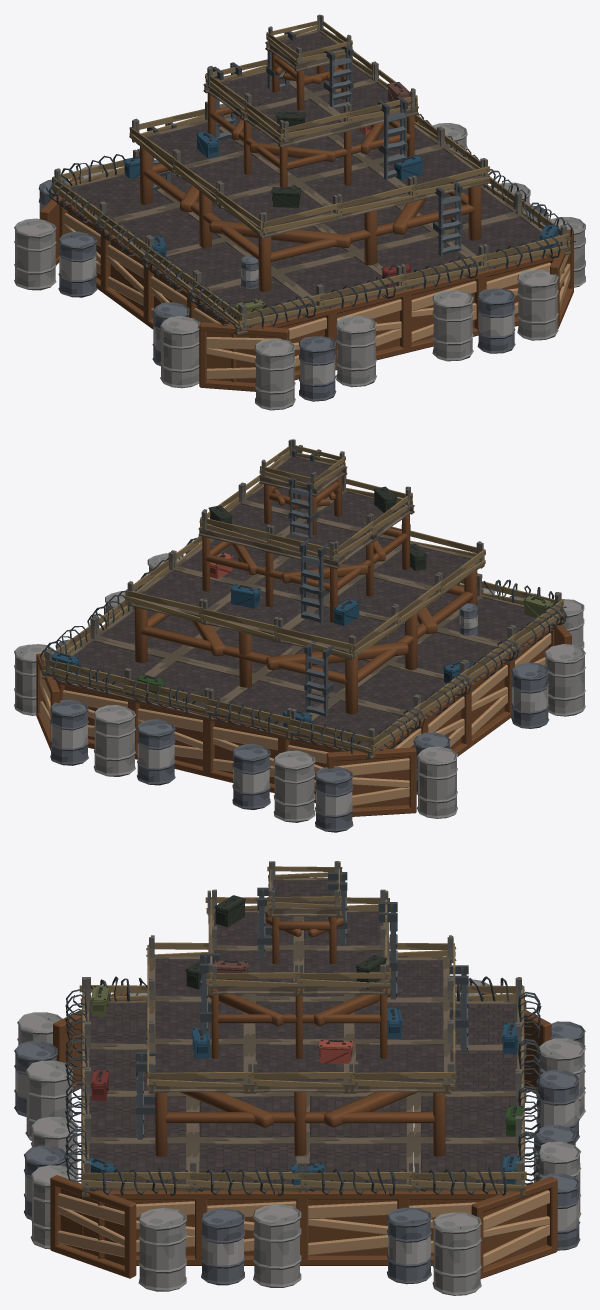
Rendered from Bunker 1.fbx.
3 views of the same model, one above another, from view 1: azimuth 30°, elevation 25°; view 2: azimuth 150°, elevation 25°; view 3: azimuth 270°, elevation 25° (orthographic). The views are drawn at different scales.
Parts seen in each view (by area): view 1: SM_Prop_Barrel_01.009; view 2: SM_Prop_Barrel_01.009; view 3: SM_Prop_Barrel_01.009.
Part boxes in pixels (x1,y1,x2,y2): SM_Prop_Barrel_01.009: (14, 14, 585, 410); SM_Prop_Barrel_01.009: (14, 439, 585, 832); SM_Prop_Barrel_01.009: (14, 861, 585, 1295).
Size of the model in its own units: 17.78 by 9.66 by 16.98.
3 materials, 1 textured.
